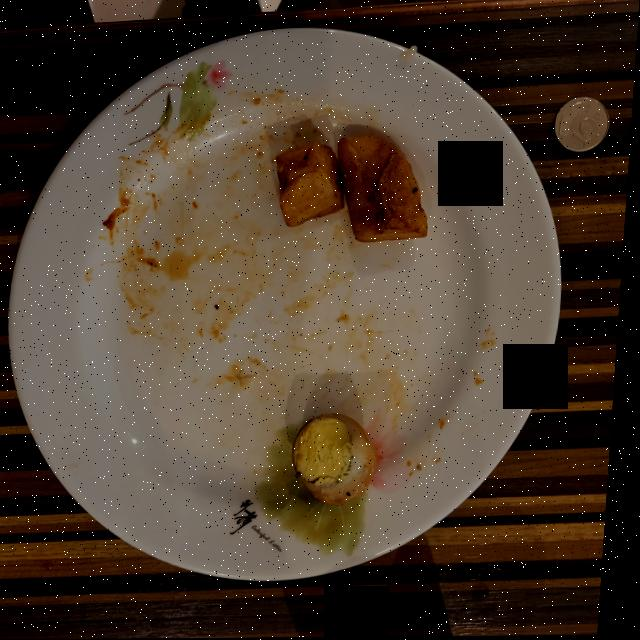coin: (555, 98, 610, 153)
fried potato: (277, 136, 430, 243)
soy egg: (297, 414, 382, 504)
